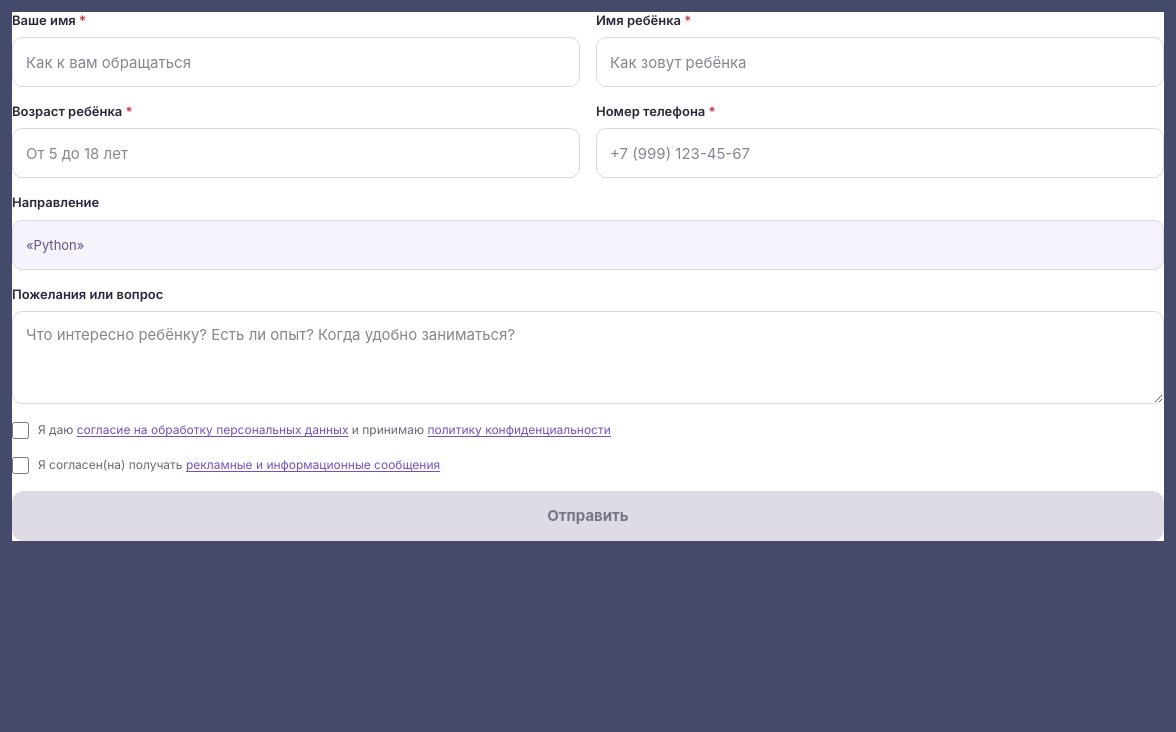
children lead submission › sends the selected course with captcha and confirms only after success
Type "Тестовый родитель" into the field labelled "Ваше имя *" at (296,62), box x1=12 y1=37 x2=580 y2=87
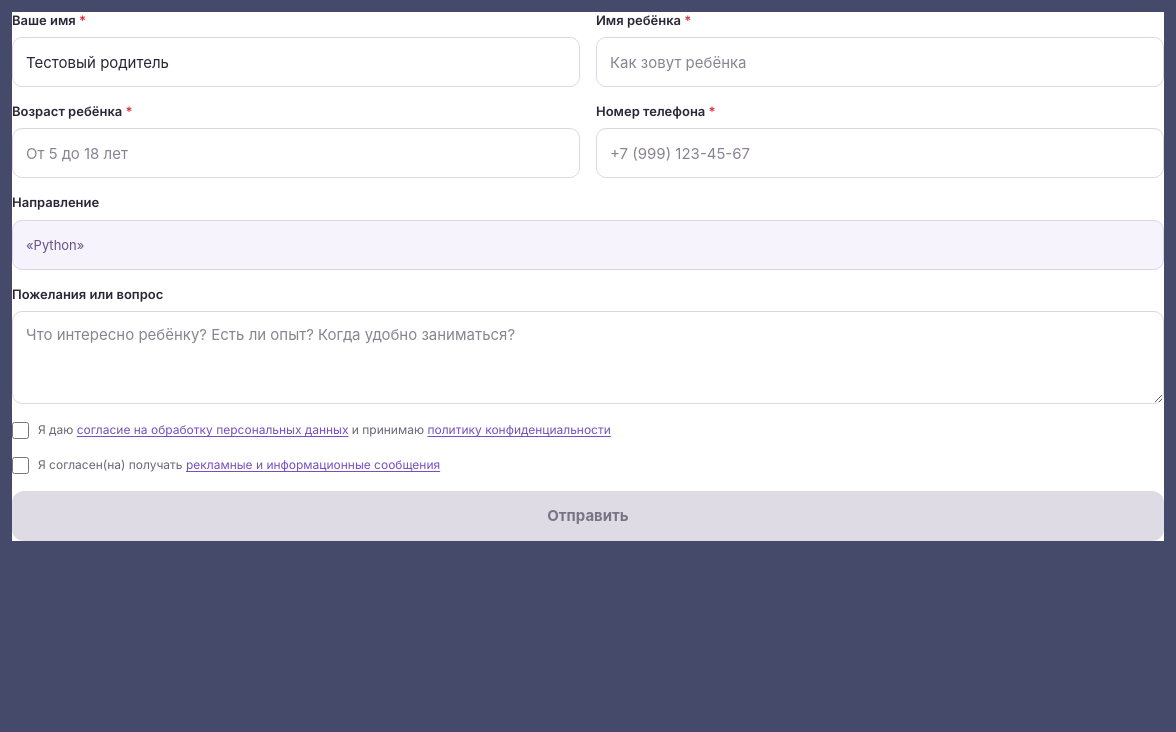
Type "8 (999) 123-45-67" into the field labelled "Номер телефона *" at (880,153), box x1=596 y1=128 x2=1164 y2=178
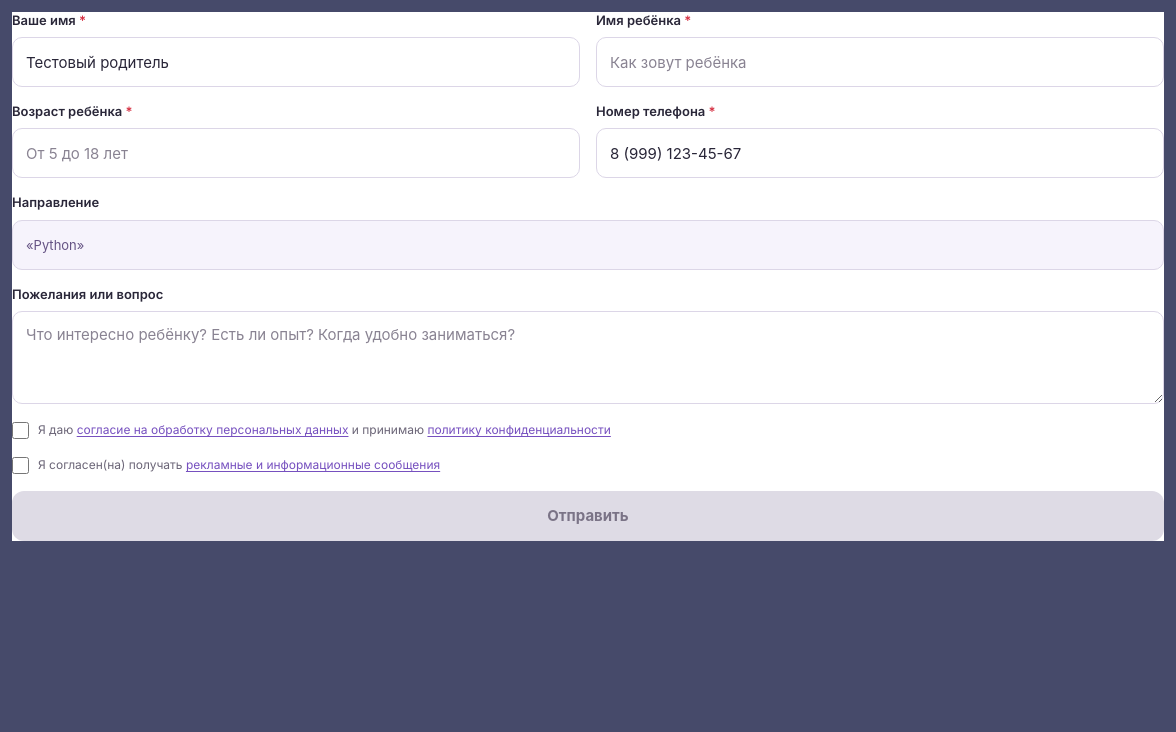
Type "Александр" into the field labelled "Имя ребёнка *" at (880,62), box x1=596 y1=37 x2=1164 y2=87
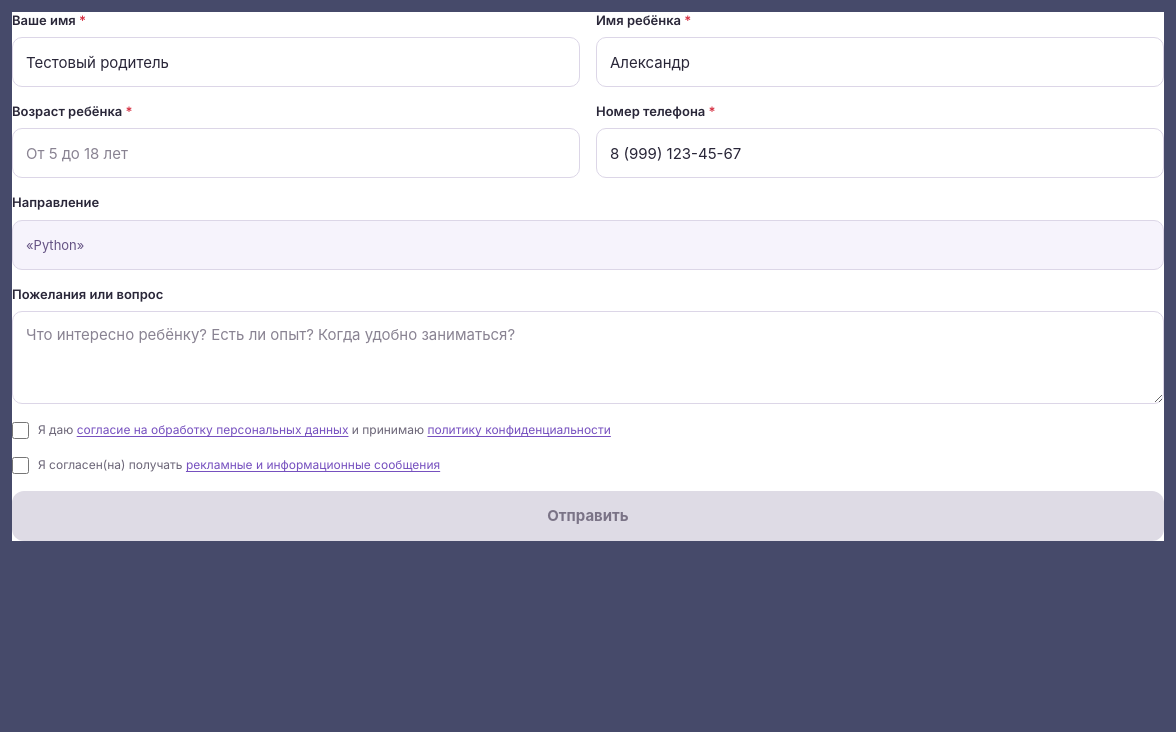
Type "12" into the number field labelled "Возраст ребёнка *" at (296,153), box x1=12 y1=128 x2=580 y2=178
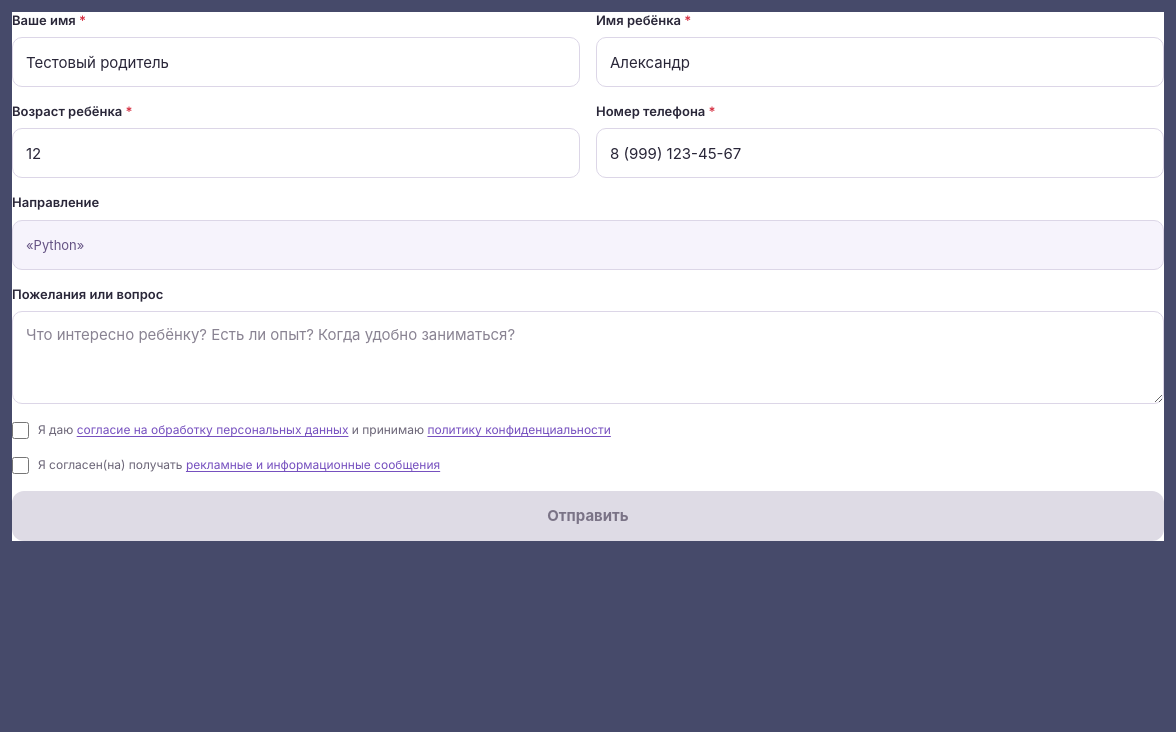
Click the checkbox labelled "обработку персональных данных" at (20,431), box x1=12 y1=422 x2=29 y2=439
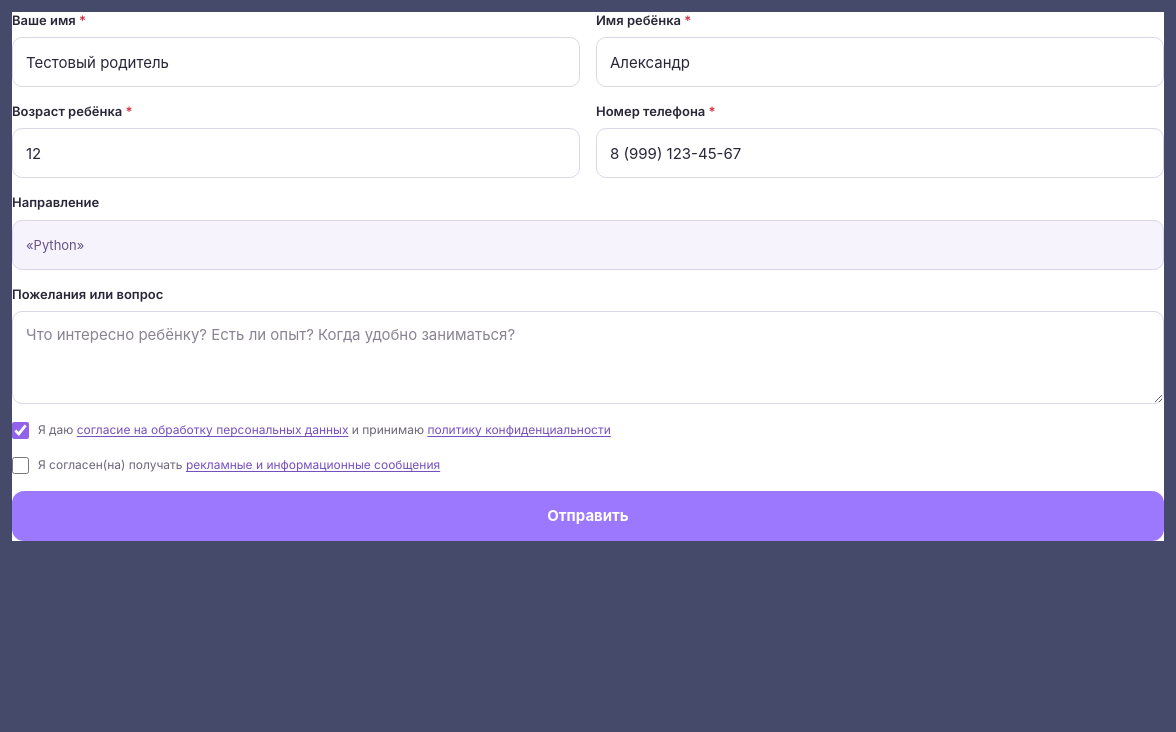
Click the button "Отправить" at (588,516), box x1=12 y1=491 x2=1164 y2=541
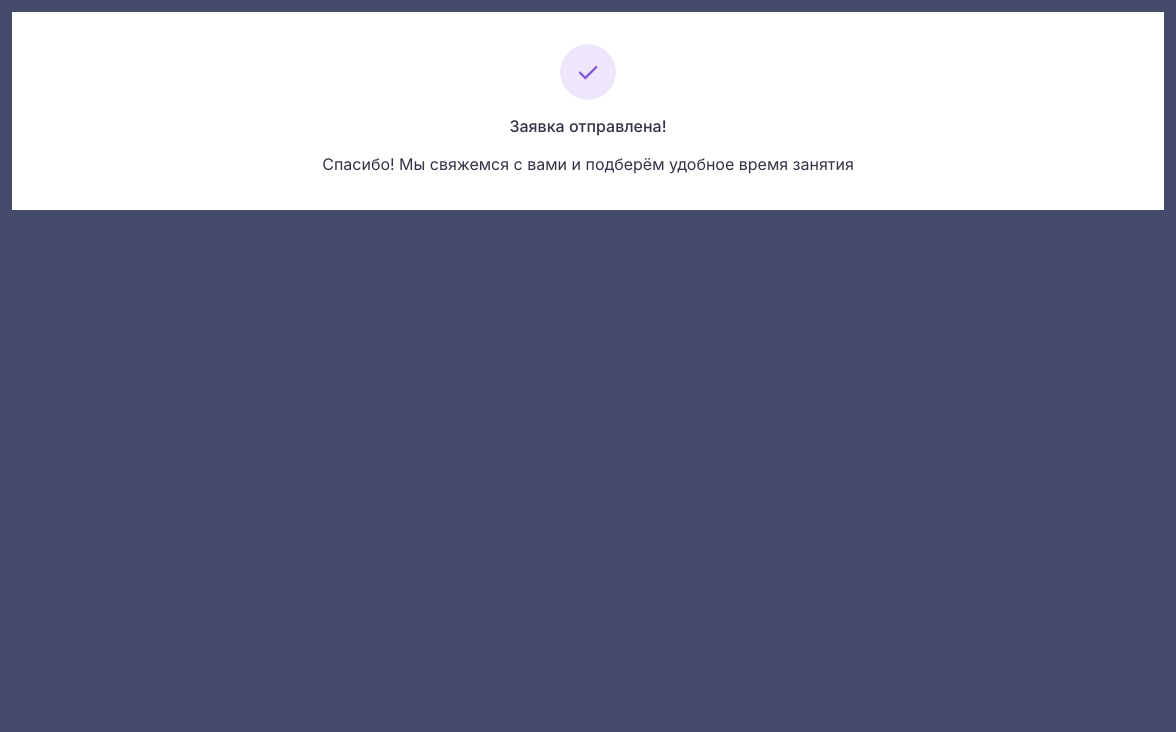
Expected: the message shows "Заявка отправлена", x1=510 y1=116 x2=667 y2=136
